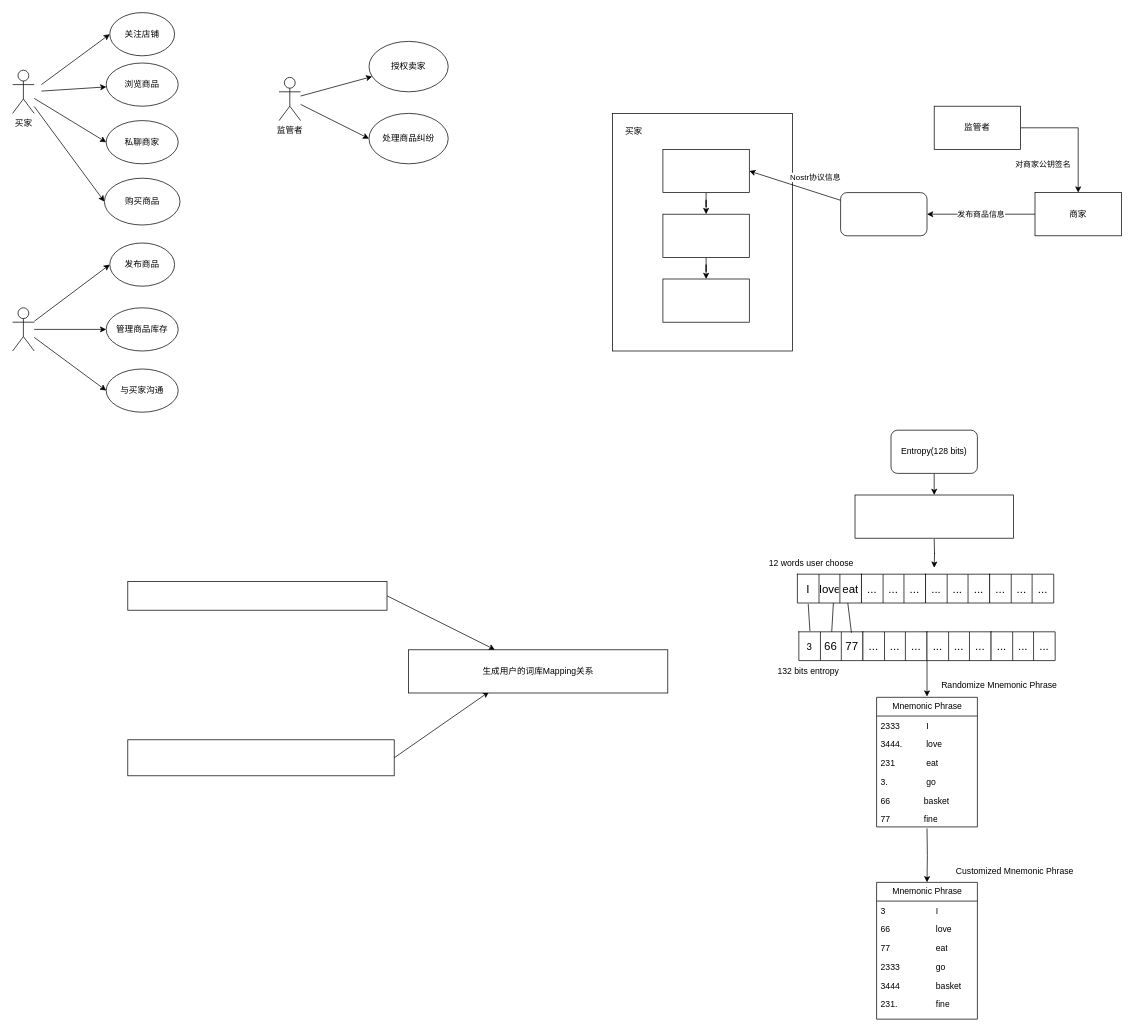
This 1134x1034 diagram has some shape labels left out. Here are the shapes that lost their labels. From the top down, the centre of each, then its label:
At pixel 705 171: "过滤器".
At pixel 883 214: "中继器".
At pixel 705 235: "存储队列".
At pixel 705 300: "前端".
At pixel 23 329: "卖家".
At pixel 933 516: "Entropy(128 bits) + check sum(4 bits)".
At pixel 257 595: "用户用助记词词库编造12个单词助记句".
At pixel 260 757: "系统随机生成的Seed".
